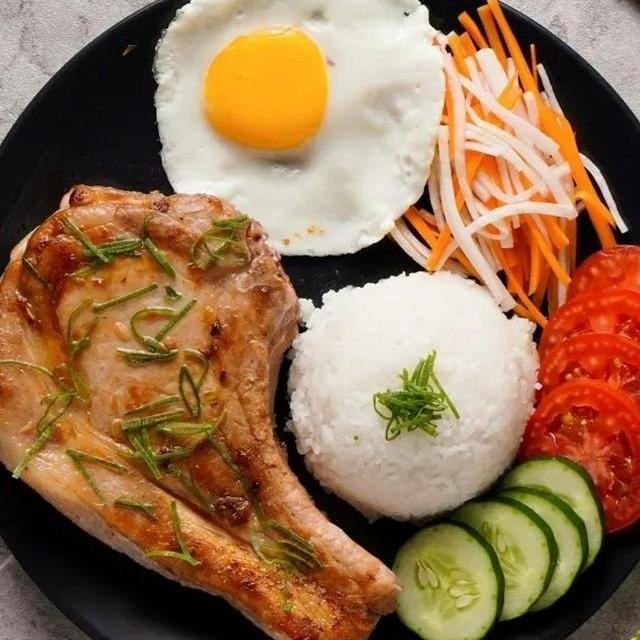com: (282, 266, 544, 524)
com suon bi trung: (0, 0, 640, 640)
dua chua: (383, 0, 633, 332)
suon: (0, 179, 404, 640)
trung: (150, 0, 449, 262)
